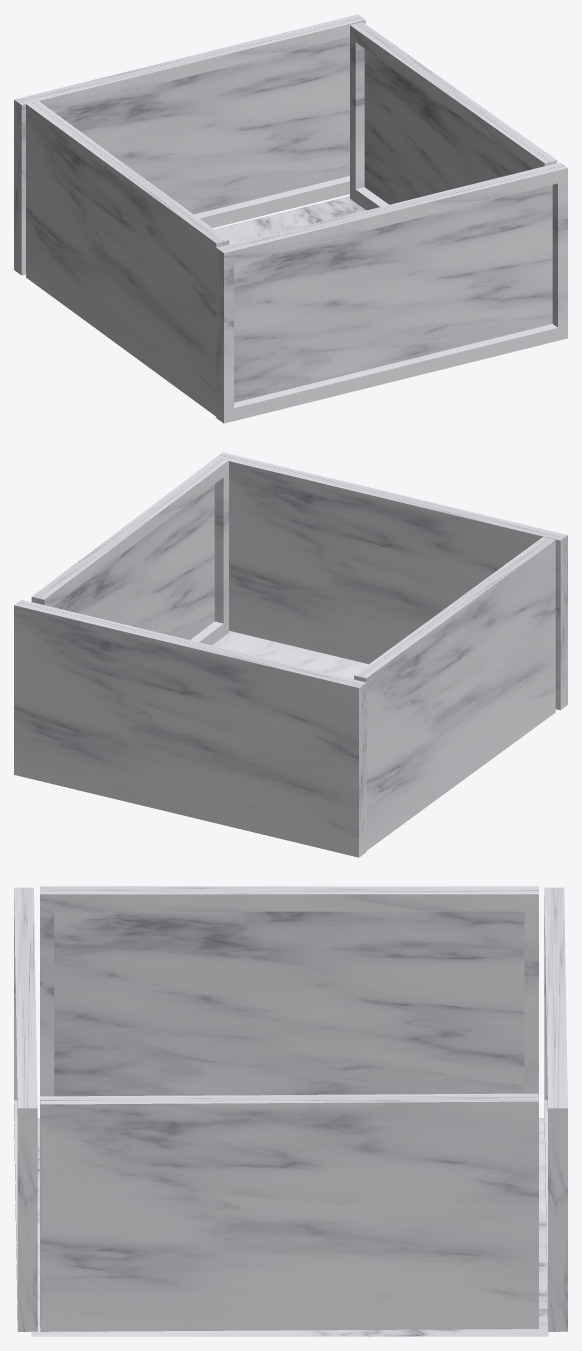
The model's file is ea489fc2-05ca-46a6-be83-529dff5e43c8.glb.
3 renders of one model, top to bottom at view 1: azimuth 30°, elevation 25°; view 2: azimuth 150°, elevation 25°; view 3: azimuth 270°, elevation 25°, orthographic. The views are drawn at different scales.
Parts seen in each view (by area): view 1: Plane; view 2: Plane; view 3: Plane.
Part boxes in pixels (<box>): Plane: <box>14,14,567,423</box>; Plane: <box>14,452,567,857</box>; Plane: <box>14,886,567,1336</box>.
Bounding box in the file's own units: 78.49 × 37.53 × 82.41.
4 materials, 4 textured.
